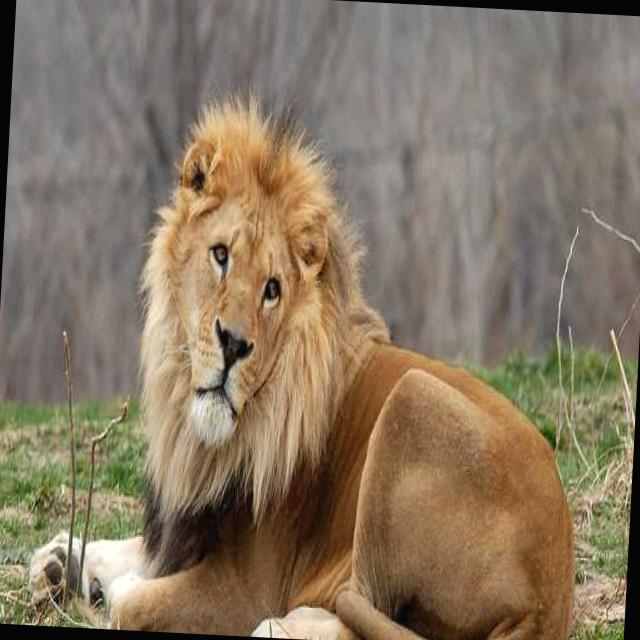lions: (31, 20, 631, 640)
